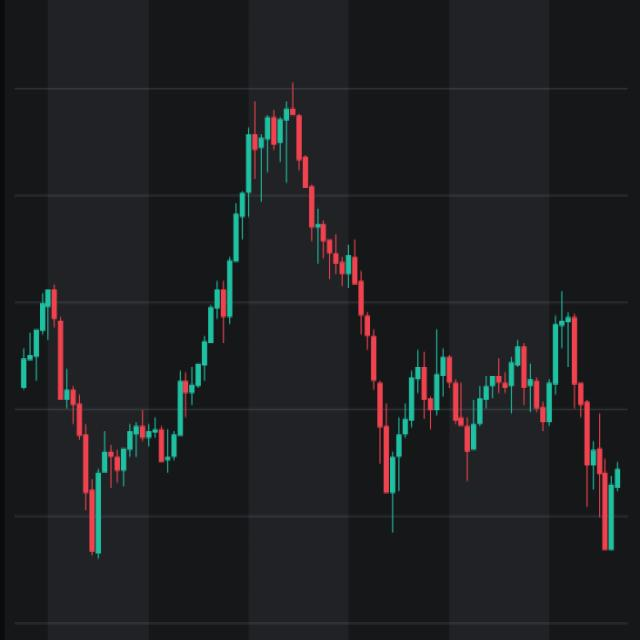Resistance-breakout: (27, 80, 306, 558)
